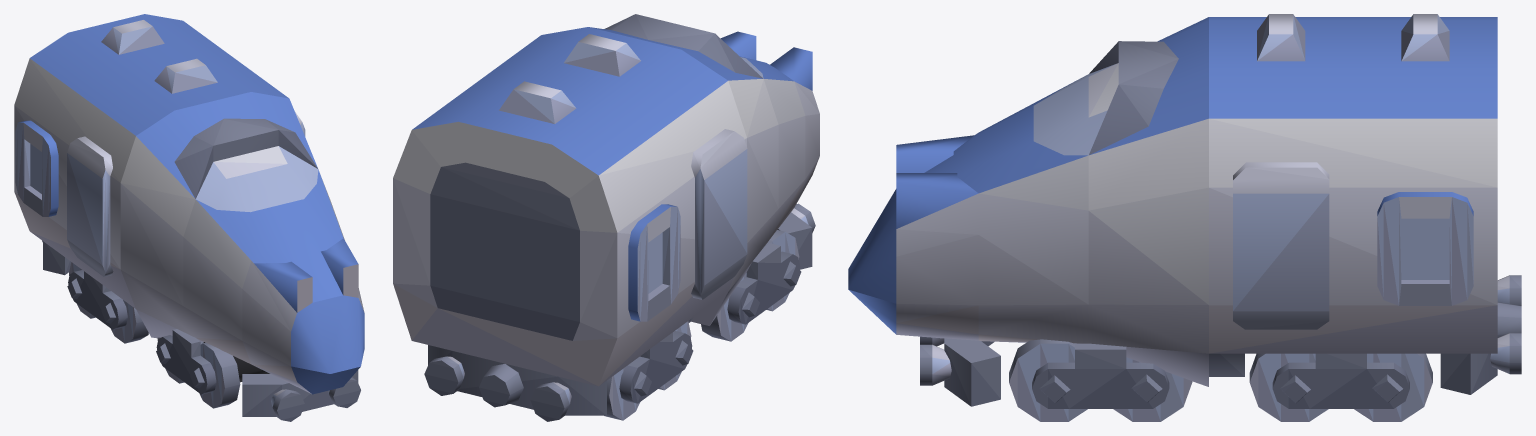
3 views of the same model, side by side, from view 1: azimuth 30°, elevation 25°; view 2: azimuth 150°, elevation 25°; view 3: azimuth 270°, elevation 25° (orthographic). The views are drawn at different scales.
Parts seen in each view (by area): view 1: Scene, wheels-front, wheels-back; view 2: Scene, wheels-front, wheels-back; view 3: Scene, wheels-front, wheels-back.
Boxes of the visible parts, x1,y1,x2,y2 form: Scene: (14,14,364,421); wheels-front: (156,329,269,408); wheels-back: (67,262,148,343); Scene: (393,14,819,421); wheels-front: (701,230,801,341); wheels-back: (604,321,693,420); Scene: (848,14,1521,406); wheels-front: (1009,339,1192,421); wheels-back: (1249,353,1432,421).
Size of the model in its own units: 2.98 by 3.7 by 6.32.
